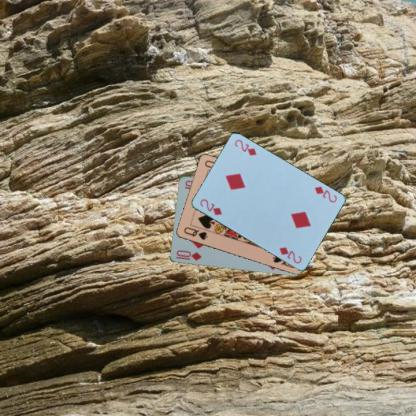10d: (173, 248, 203, 262)
2d: (311, 184, 338, 204), (197, 196, 223, 216)
Qs: (181, 224, 208, 242)
